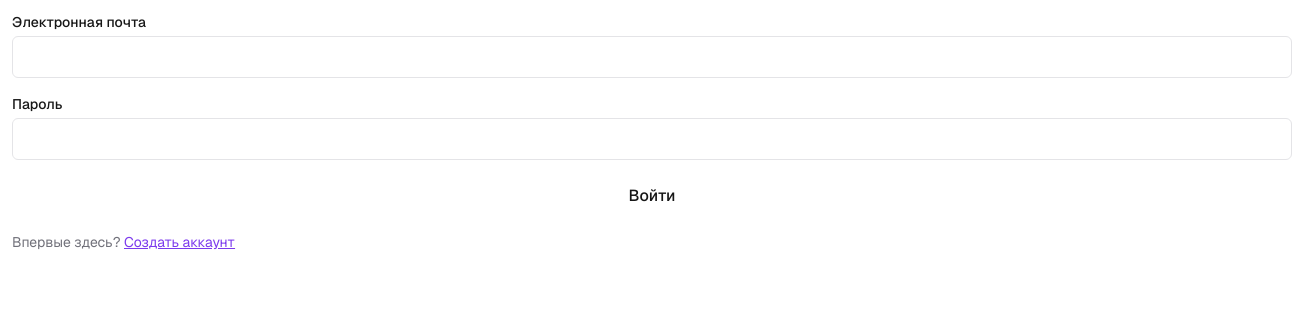
Scenario: SignInForm › shows the email-not-confirmed alert and keeps the email
In the field labelled "Электронная почта": (652, 57) [12,36,1292,78], type "reader@example.com"
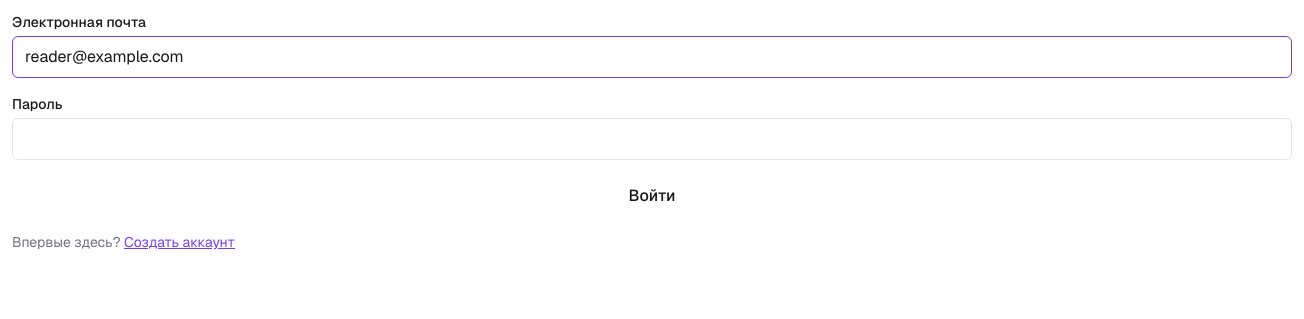
In the password field labelled "Пароль": (652, 139) [12,118,1292,160], type "secret-password-1"
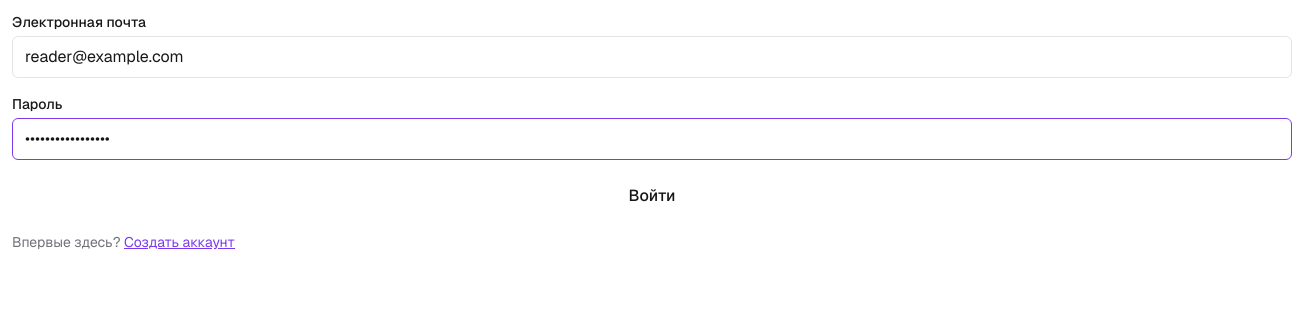
Click the button "Войти": (652, 196) [12,176,1292,216]
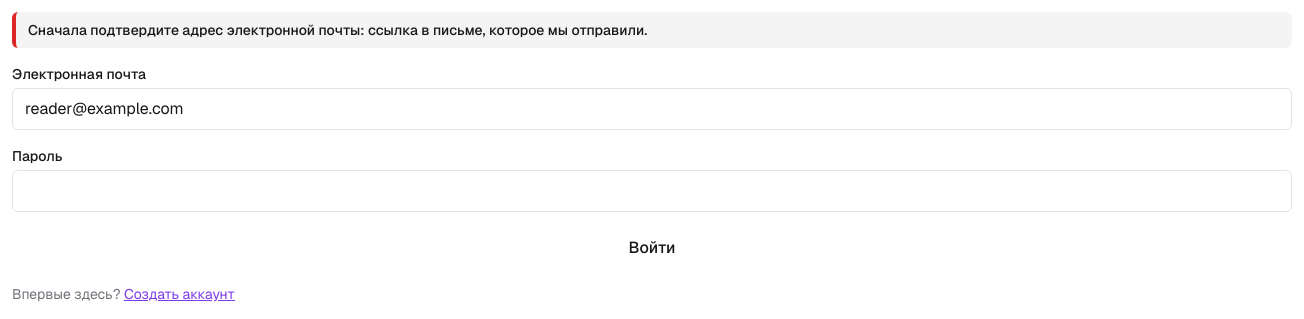
Check: the message shows "Сначала подтвердите адрес электронной почты: ссылка в письме, которое мы отправили.", box [28,21,647,39]
Check: the password field labelled "Пароль" is empty, box [12,170,1292,212]
